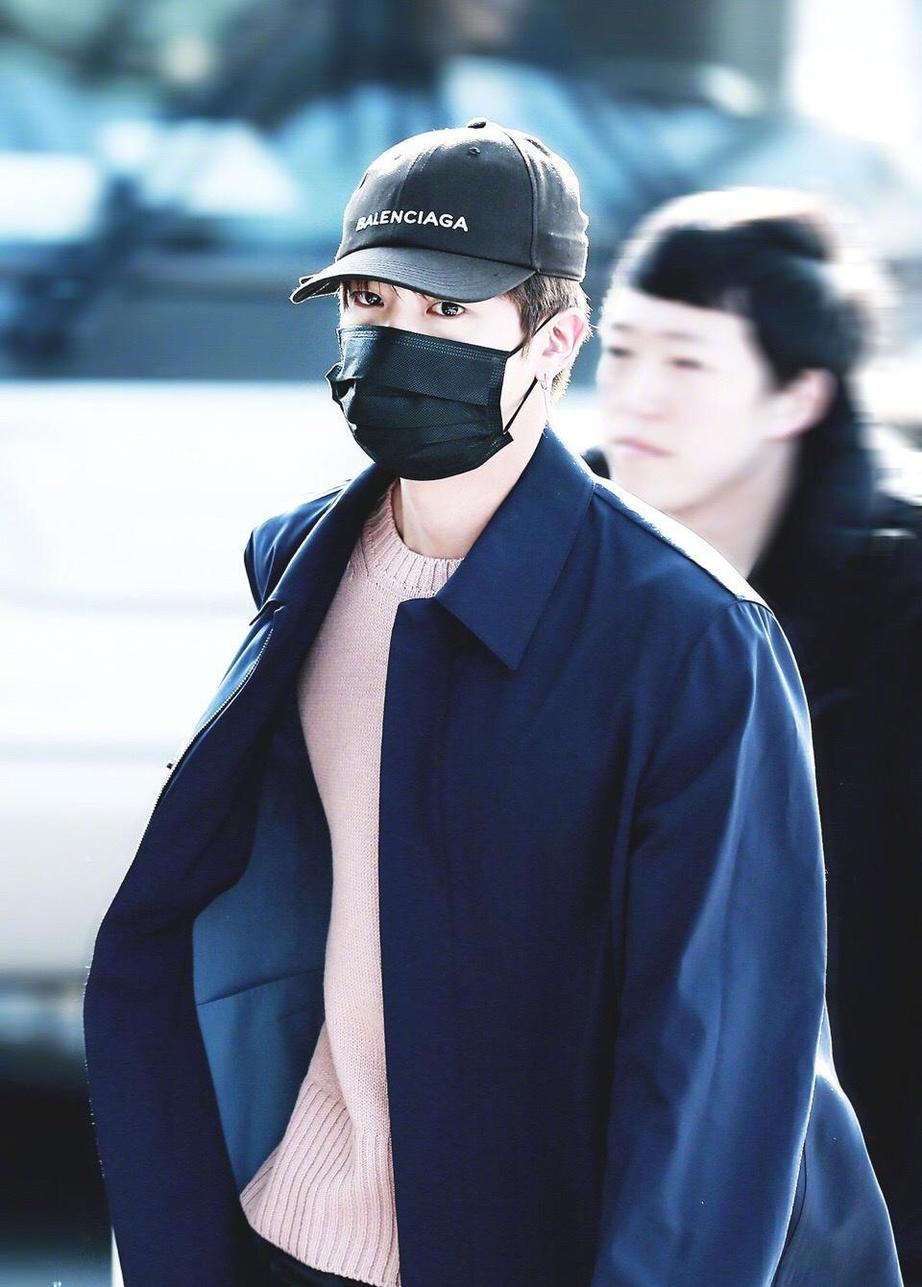NONE: (597, 318, 767, 517)
OK: (325, 257, 546, 476)
